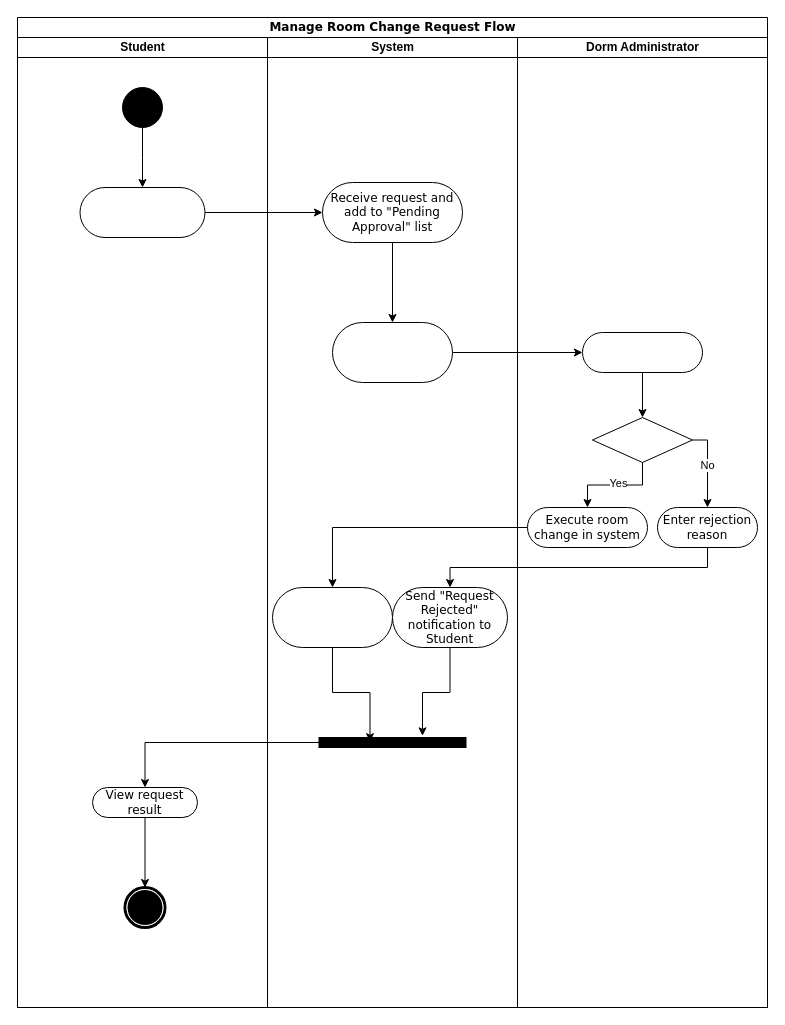
Some shapes in this 785 by 1025 pixel diagram are drawn without their labels. Each missing label, with the centre of its shape:
Approve?: (642,439)
Fill and submit room change request: (142,212)
Notify Dorm Administrator of new request: (392,352)
Review room change request: (642,352)
Send "Request Approved" notification to Student: (332,617)
